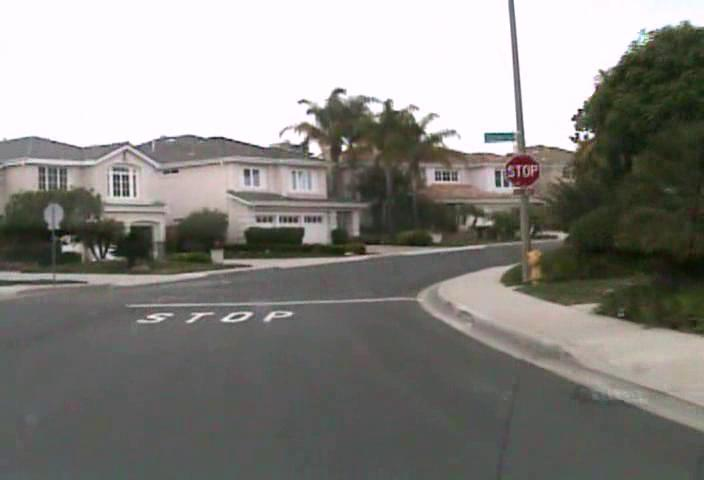stop: (503, 153, 540, 188)
